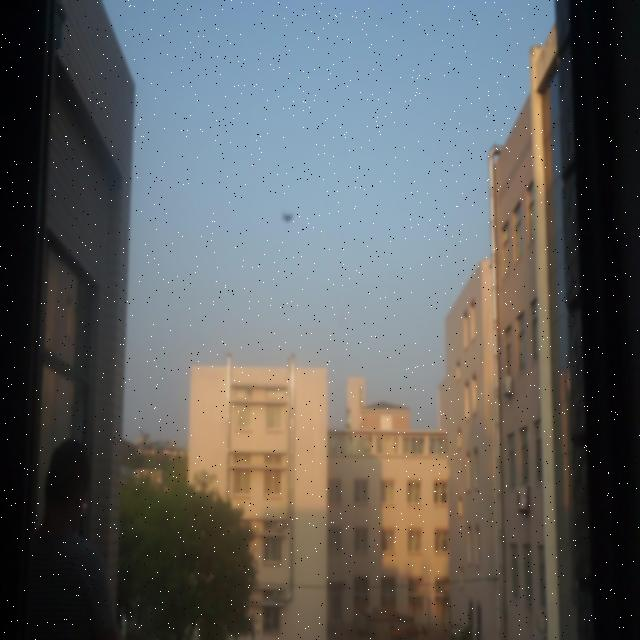UAV: (282, 212, 293, 222)
